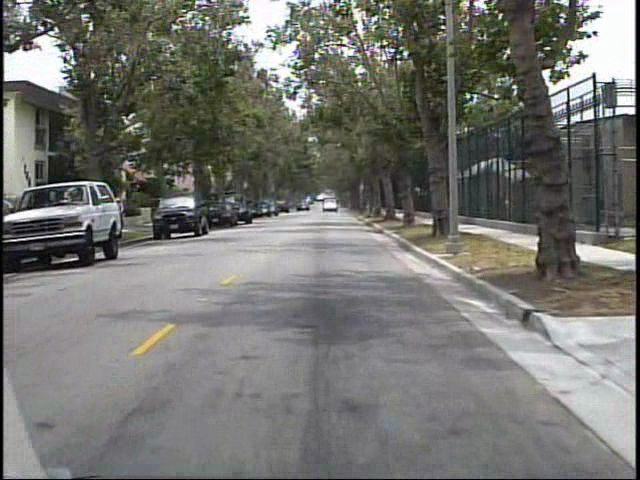person: (100, 185, 124, 235)
